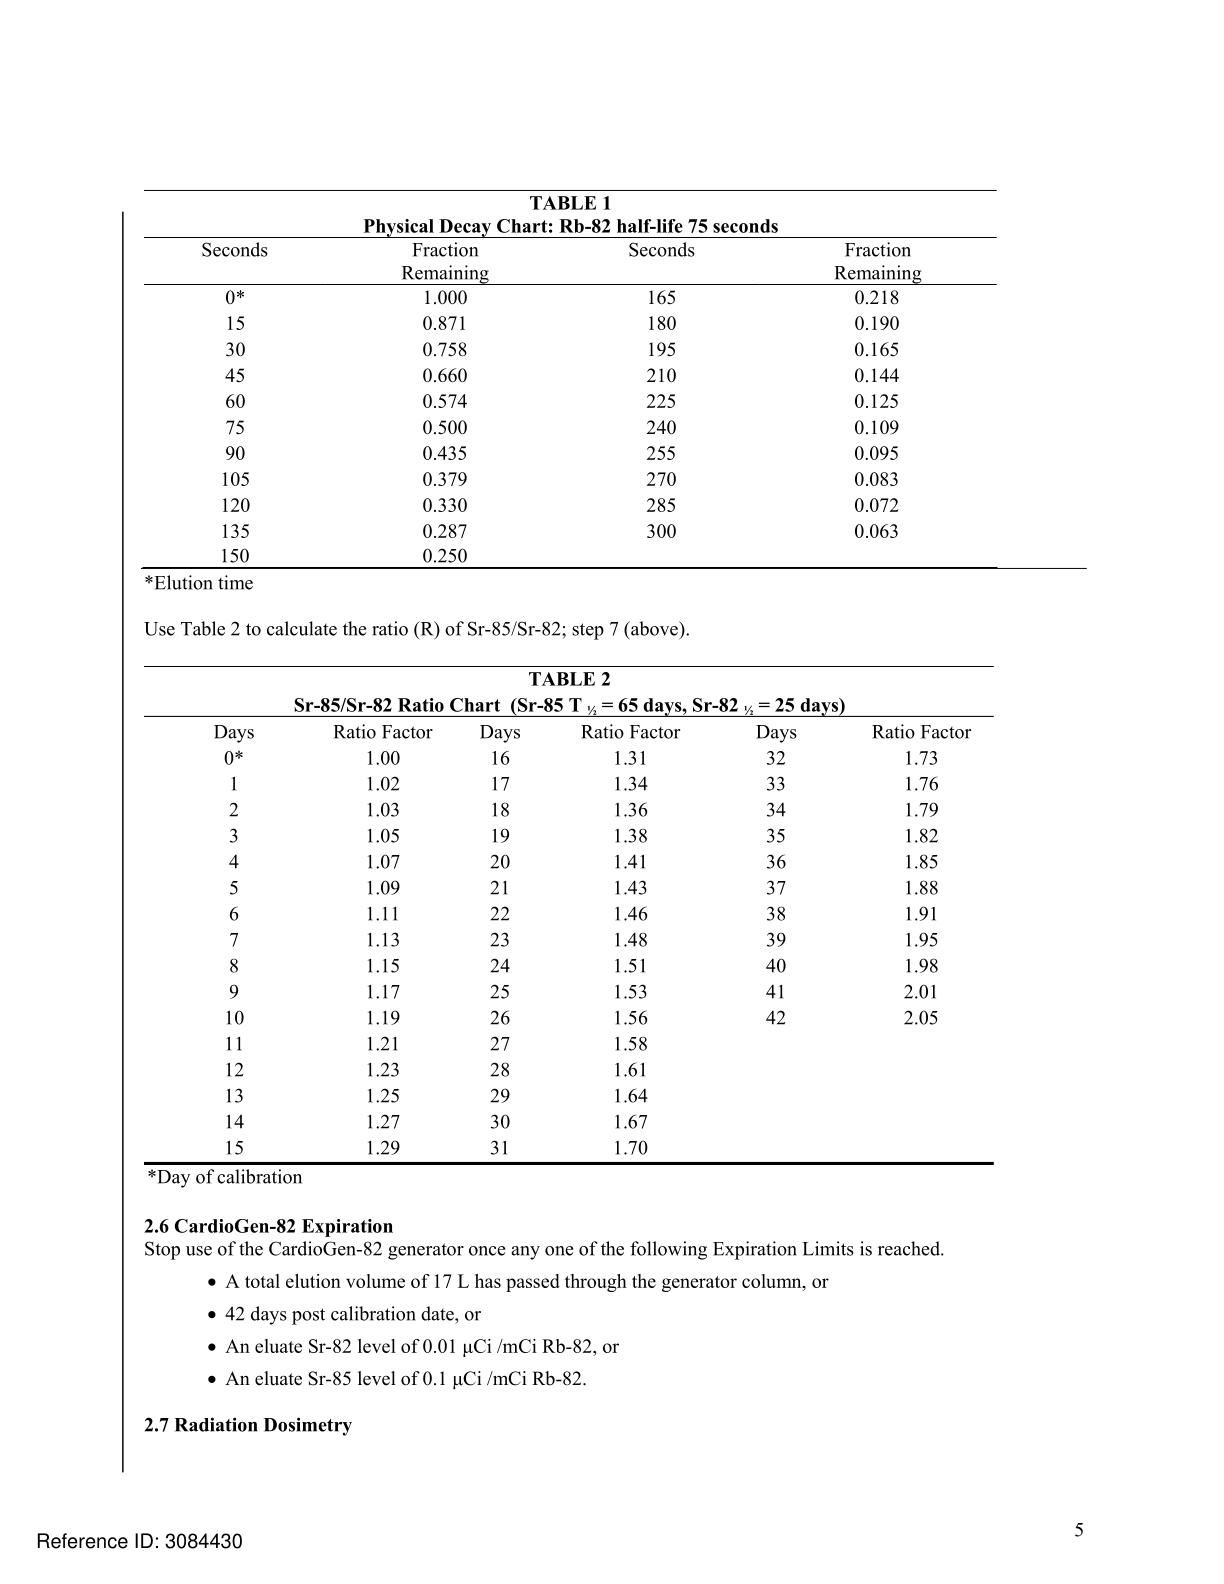partial_lined_merged_cells: (138, 661, 996, 1167), (138, 183, 1086, 572)
